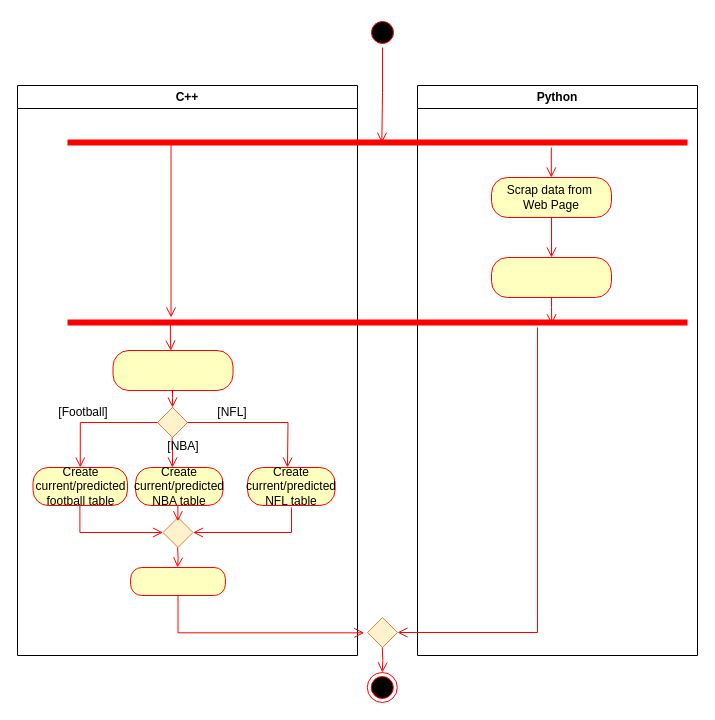
This 715x720 diagram has some shape labels left out. Here are the shapes that lost their labels. From the top down, the centre of each, then its label:
(551,277): Create/Update .csv files from data
(172,370): Parse .csv data
(177,581): Display the requested table
